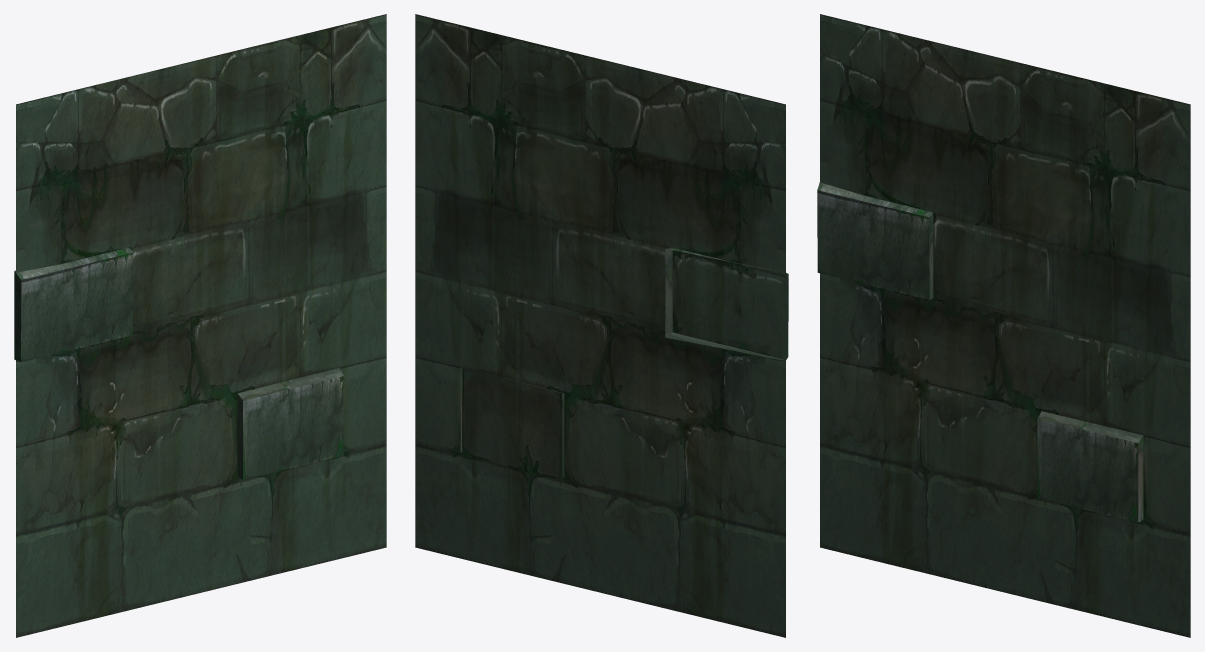
File: stemple_wall_straight_05.fbx
3 renders of one model, left to right at view 1: azimuth 30°, elevation 25°; view 2: azimuth 150°, elevation 25°; view 3: azimuth 330°, elevation 25°, orthographic.
Parts seen in each view (by area): view 1: stemple_wall_straight_05-0; view 2: stemple_wall_straight_05-0; view 3: stemple_wall_straight_05-0.
Part boxes in pixels (left/top/right/bottom): stemple_wall_straight_05-0: left=14, top=14, right=386, bottom=637; stemple_wall_straight_05-0: left=415, top=14, right=788, bottom=637; stemple_wall_straight_05-0: left=817, top=14, right=1190, bottom=637.
Bounding box in the file's own units: 4.01 × 5.5 × 0.219.
